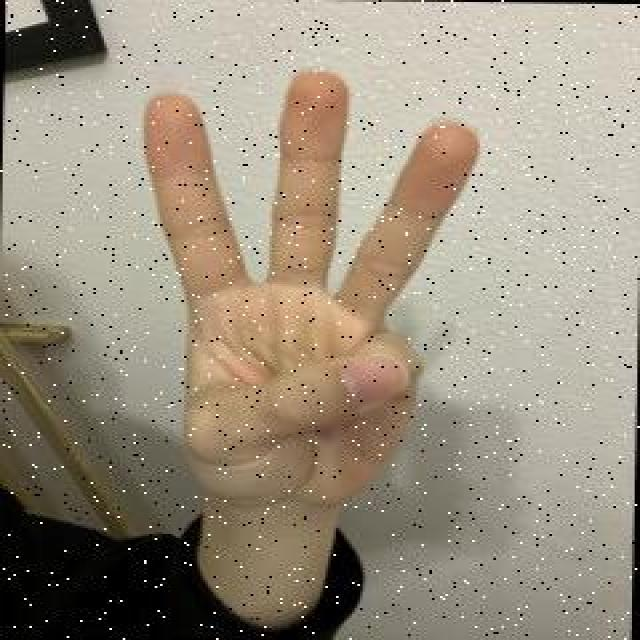W: (120, 64, 493, 522)
